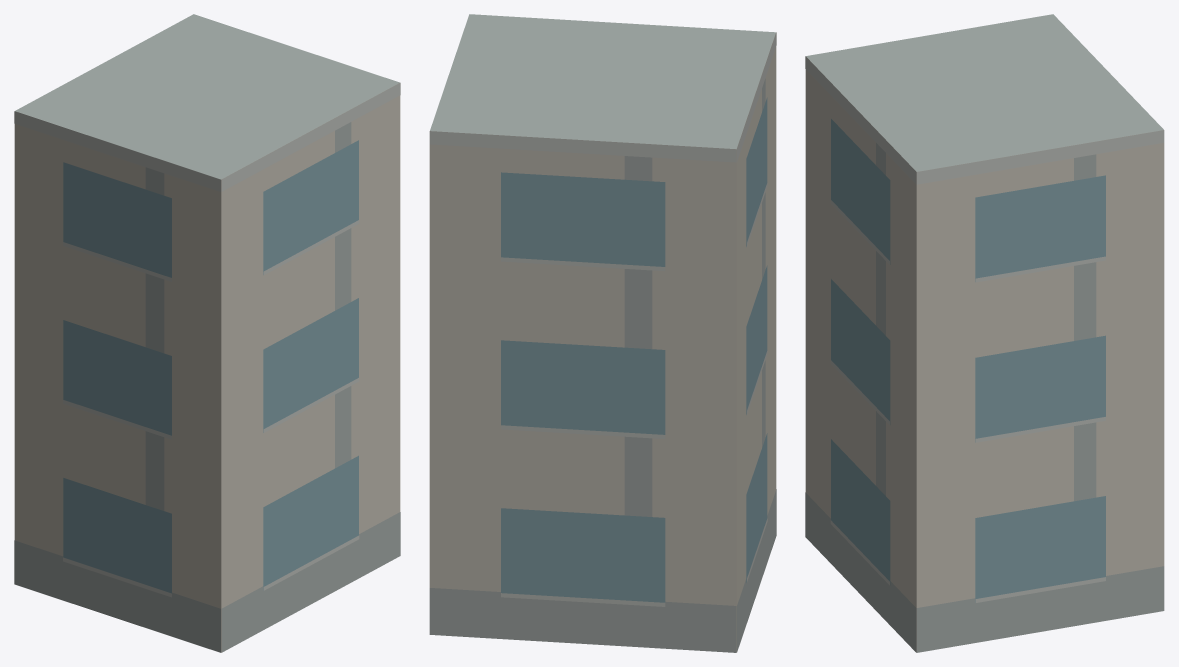
Rendered from survey-upis-32520847.glb.
3 views of the same model, side by side, from view 1: azimuth 30°, elevation 25°; view 2: azimuth 150°, elevation 25°; view 3: azimuth 270°, elevation 25° (orthographic). The views are drawn at different scales.
Visible parts, largest first — view 1: survey-upis-32520847.tmp; view 2: survey-upis-32520847.tmp; view 3: survey-upis-32520847.tmp.
Part boxes in pixels (x1=…): survey-upis-32520847.tmp: x1=14, y1=14, x2=400, y2=652; survey-upis-32520847.tmp: x1=429, y1=14, x2=776, y2=652; survey-upis-32520847.tmp: x1=805, y1=14, x2=1164, y2=652.
Size of the model in its own units: 6.45 by 9.15 by 6.2.
